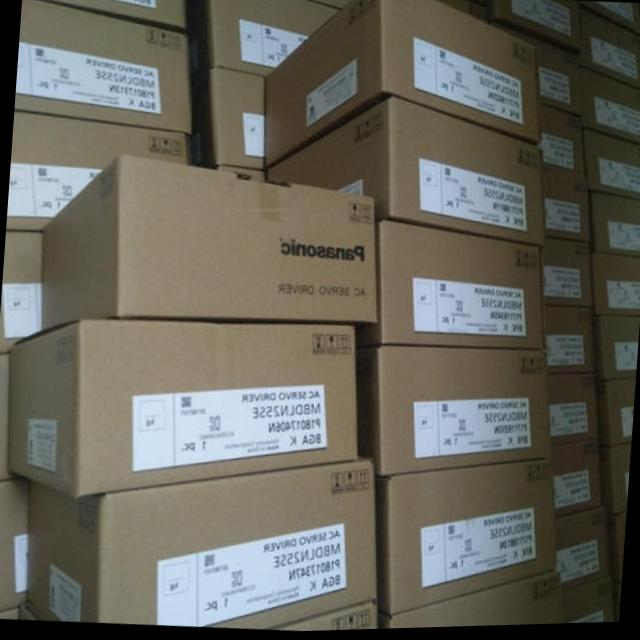box: (8, 319, 360, 498), (27, 457, 377, 630), (39, 154, 377, 330), (265, 0, 539, 169), (265, 98, 546, 250), (375, 461, 557, 620), (355, 347, 552, 479), (355, 221, 547, 353), (14, 0, 190, 134), (6, 110, 189, 229), (185, 0, 340, 78), (376, 575, 563, 631), (430, 0, 577, 58), (189, 66, 266, 170), (578, 8, 640, 93), (0, 228, 42, 352), (578, 67, 640, 148), (35, 0, 185, 33), (555, 507, 612, 593), (538, 106, 590, 193), (550, 441, 604, 521), (583, 128, 640, 203), (0, 472, 30, 610), (539, 240, 594, 311), (547, 374, 598, 448), (545, 306, 596, 377), (535, 42, 582, 119), (590, 193, 640, 260), (591, 252, 640, 320), (594, 319, 640, 386), (543, 187, 594, 247), (272, 604, 378, 632), (597, 381, 635, 451), (563, 576, 614, 627), (597, 444, 631, 519), (605, 511, 626, 626), (577, 4, 640, 38), (192, 168, 266, 184), (0, 349, 9, 480), (0, 603, 50, 619), (305, 0, 351, 11)
